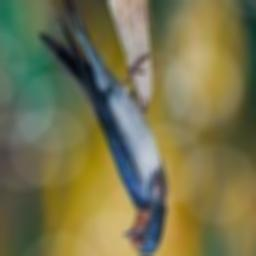Swallow: (38, 0, 166, 256)
